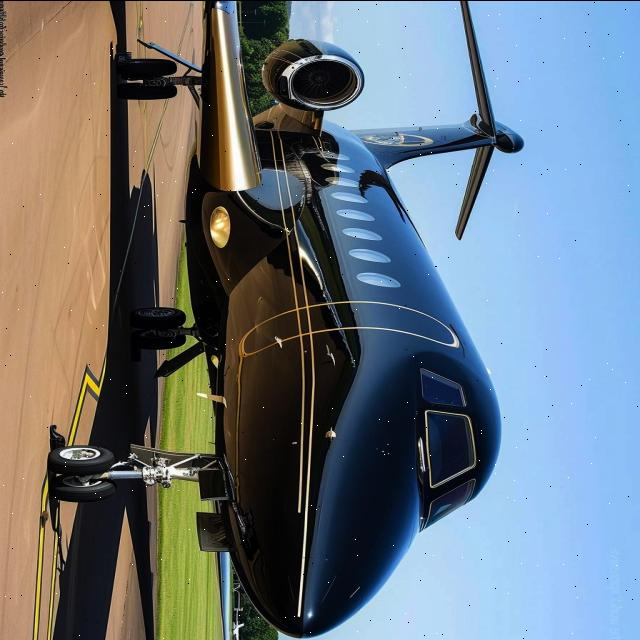jet: (0, 0, 592, 640)
